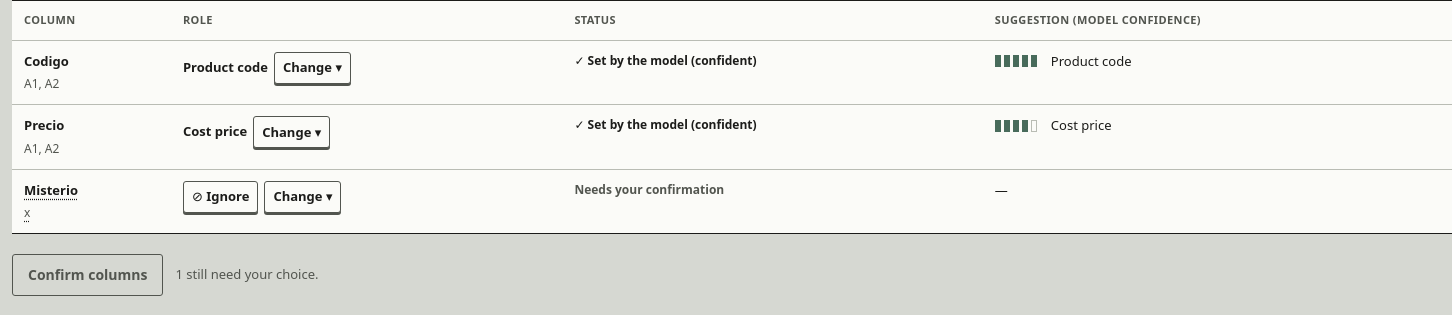
ColumnsTable › allows picking a role, shows chosen role with Back to suggestion, and Back to suggestion clears choice
# Click Change to reveal role select
Click the button "Change ▾" in the row of "Misterio". click: [303, 196]
box: [264,180,341,212]
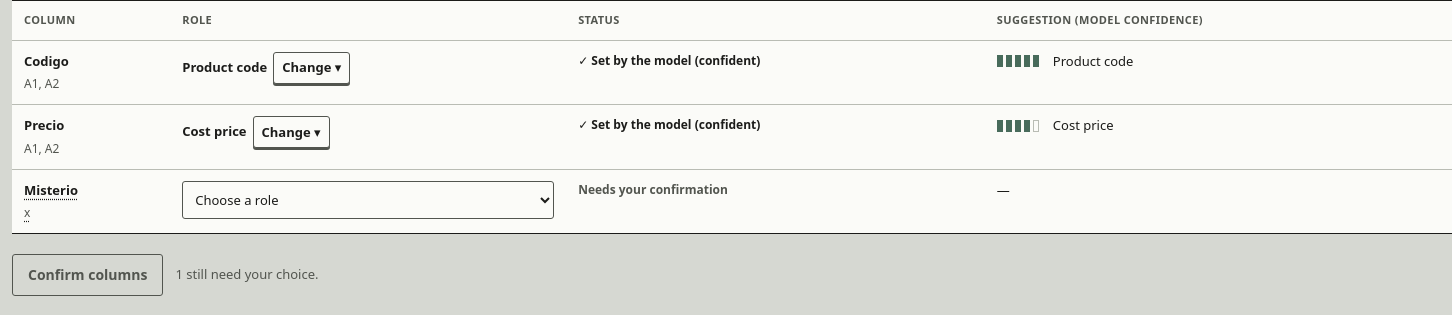
Check: the dropdown is shown
# Choose Barcode
Select "Barcode" in the dropdown. click: [368, 200]
box: [182,180,554,218]
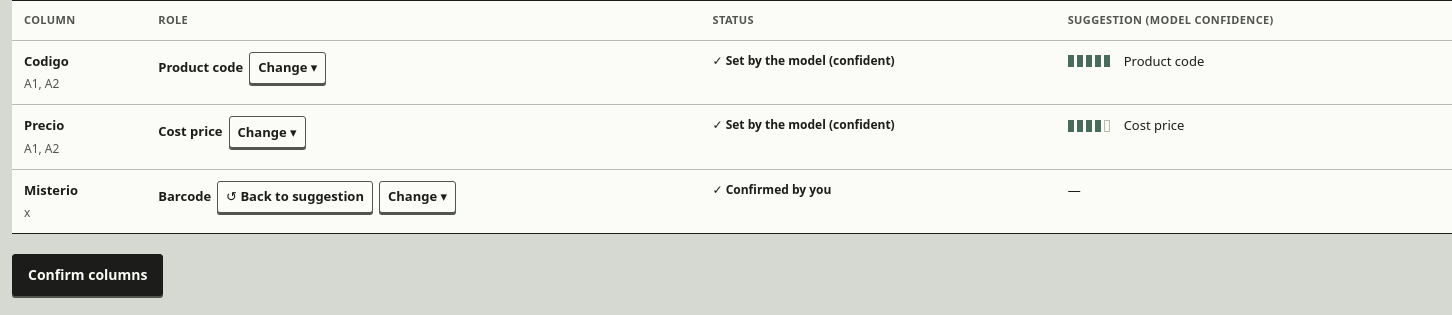
Check: the text "✓ Confirmed by you" is shown, box [712,180,831,198]
Check: the text "Barcode" is shown, box [158,187,211,206]
Check: the button "↺ Back to suggestion" is shown
# Clicking Back to suggestion unsets choice
Click the button "↺ Back to suggestion". click: [295, 196]
box: [217,180,373,212]
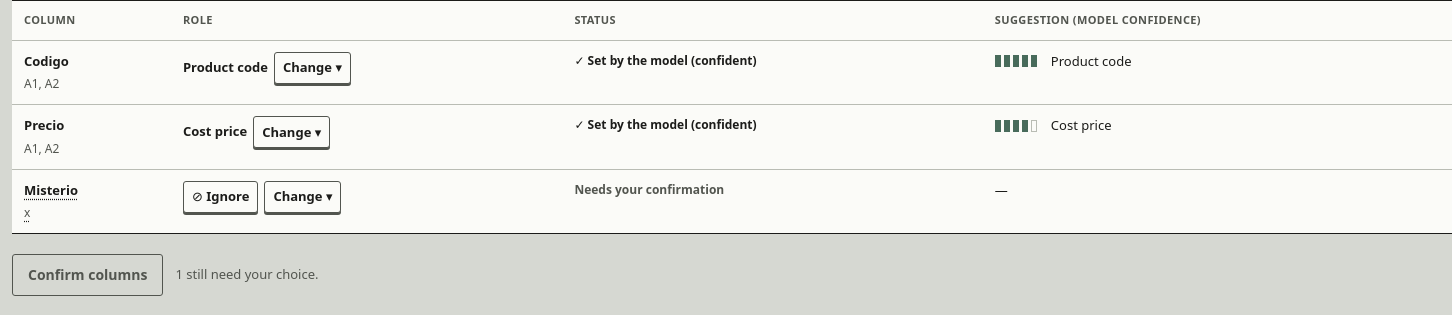
Check: the text "Needs your confirmation" is shown, box [574,180,724,198]
Check: the button "Back to suggestion" is gone
